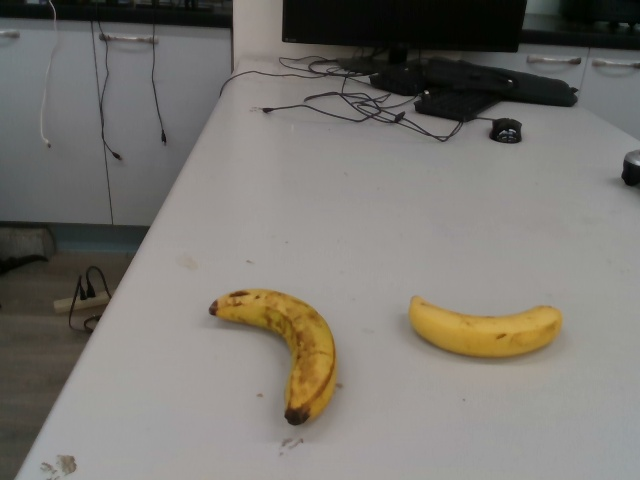banana: (207, 287, 338, 426), (404, 293, 562, 359)
